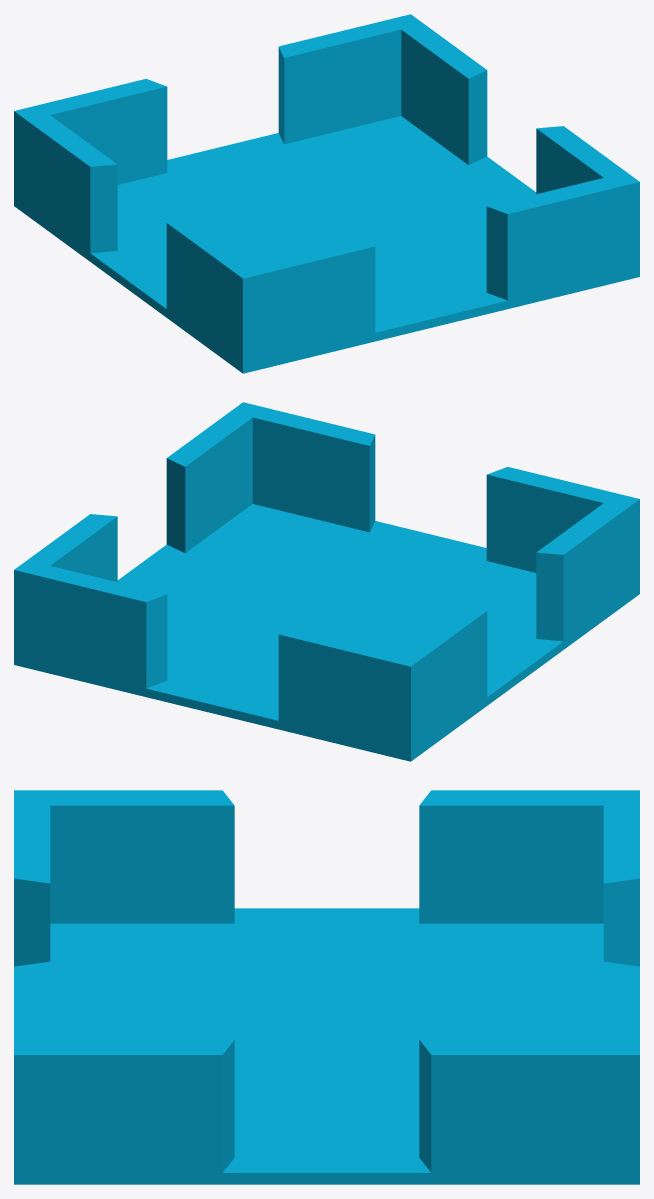
Rendered from RoomStart.glb.
3 views of the same model, one above another, from view 1: azimuth 30°, elevation 25°; view 2: azimuth 150°, elevation 25°; view 3: azimuth 270°, elevation 25° (orthographic). The views are drawn at different scales.
Parts seen in each view (by area): view 1: Cube; view 2: Cube; view 3: Cube.
Boxes of the visible parts, box(x1,y1,x2,y2) form: Cube: box(14, 14, 639, 373); Cube: box(14, 402, 639, 761); Cube: box(14, 790, 639, 1184).
Size of the model in its own units: 1 by 0.2288 by 1.
